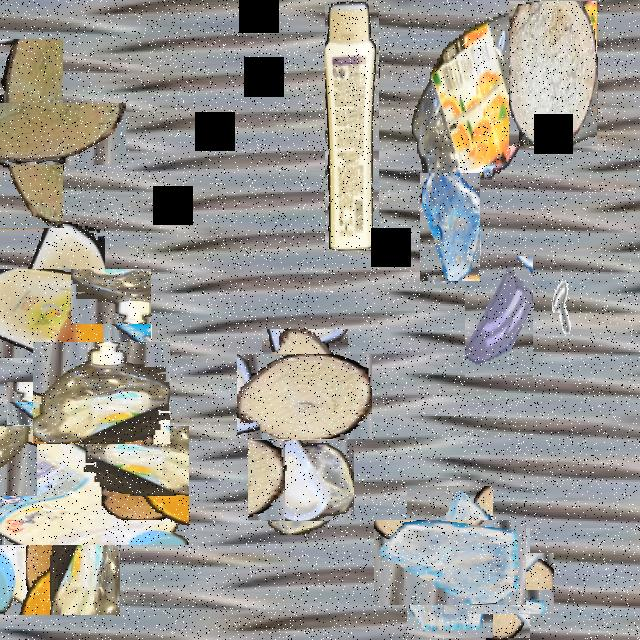glass: (390, 502, 510, 622), (465, 256, 533, 377), (420, 174, 480, 281)
metal: (527, 272, 573, 354)
plastic: (410, 2, 592, 180), (0, 390, 154, 580), (0, 245, 128, 380), (41, 333, 161, 453), (325, 2, 379, 250), (254, 433, 348, 527)
wood: (509, 2, 597, 148), (250, 341, 360, 452), (0, 70, 94, 196), (456, 540, 542, 626), (16, 372, 80, 435)
